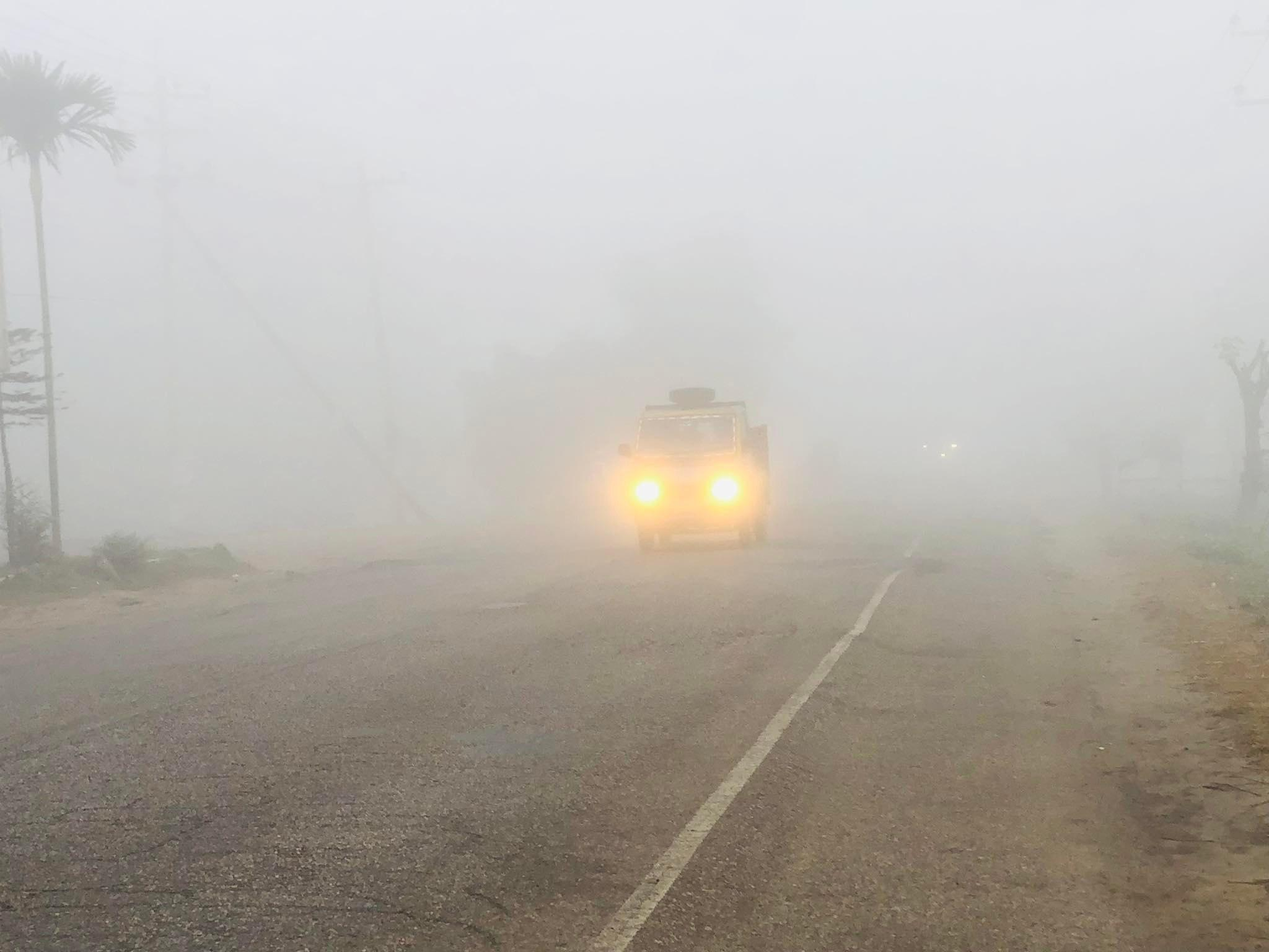Truck: (597, 384, 799, 557)
